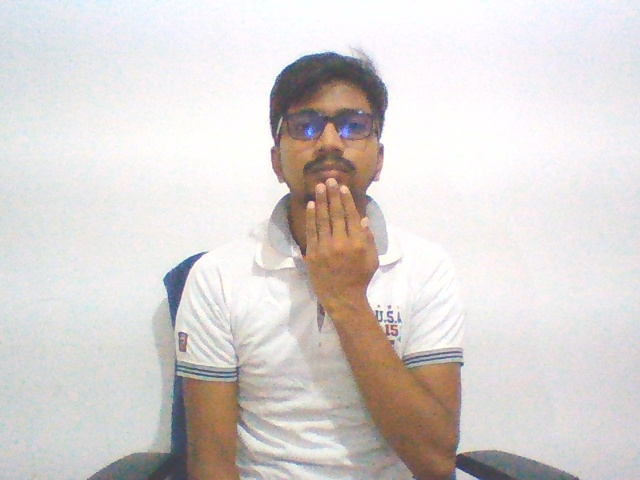mango: (296, 172, 383, 316)
